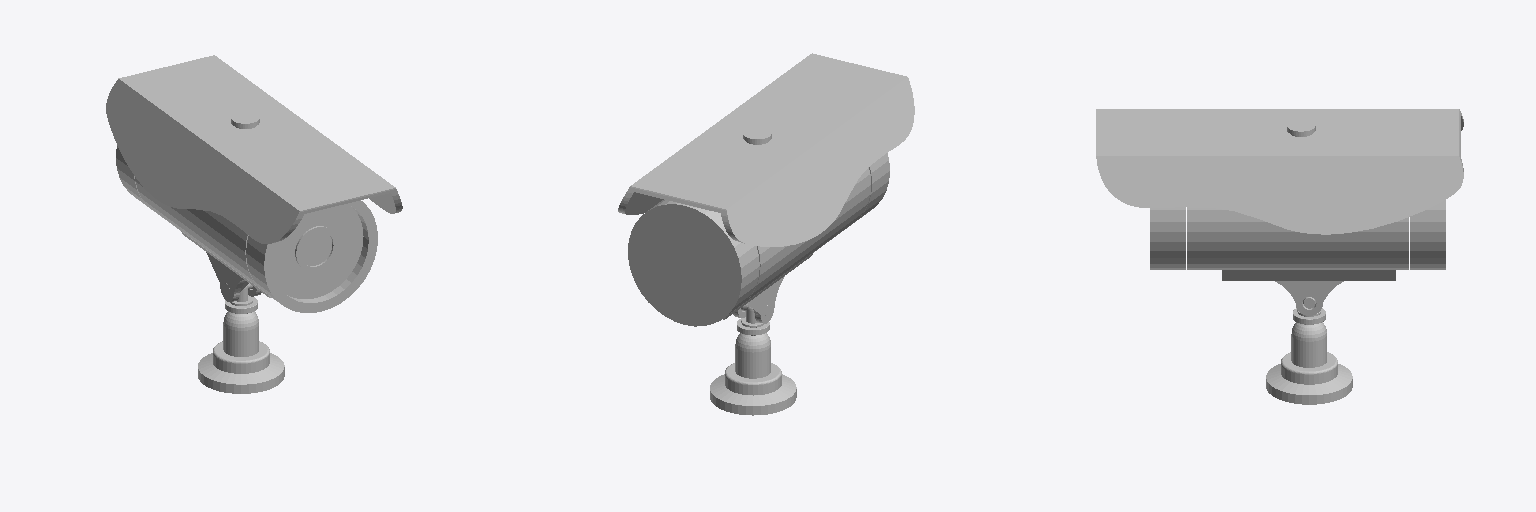
3 renders of one model, left to right at view 1: azimuth 30°, elevation 25°; view 2: azimuth 150°, elevation 25°; view 3: azimuth 270°, elevation 25°, orthographic.
Visible parts, largest first — view 1: 立方体.1, 圆柱, 机身, 圆柱_1, 圆柱.8, 胶囊.1, 圆柱.7, 挤压.2, 圆柱.2_2, 挤压_1, 圆柱.2_1, 机身后; view 2: 立方体.1, 机身后, 机身, 圆柱.8, 胶囊.1, 圆柱.7, 圆柱_1, 挤压_1, 挤压.2, 立方体; view 3: 立方体.1, 机身, 圆柱_1, 机身后, 圆柱.8, 挤压, 胶囊.1, 圆柱.7, 挤压.1.
Boxes of the visible parts, box(x1,y1,x2,y2) form: 立方体.1: box(106, 55, 395, 243); 圆柱: box(273, 204, 363, 298); 机身: box(135, 177, 263, 291); 圆柱_1: box(246, 200, 377, 312); 圆柱.8: box(198, 353, 284, 393); 胶囊.1: box(223, 311, 258, 356); 圆柱.7: box(213, 341, 269, 373); 挤压.2: box(206, 252, 248, 301); 圆柱.2_2: box(287, 206, 368, 302); 挤压_1: box(274, 188, 402, 242); 圆柱.2_1: box(295, 226, 337, 270); 机身后: box(116, 146, 151, 209); 立方体.1: box(631, 53, 914, 246); 机身后: box(628, 200, 759, 326); 机身: box(742, 167, 870, 304); 圆柱.8: box(710, 374, 796, 415); 胶囊.1: box(735, 333, 770, 378); 圆柱.7: box(725, 363, 781, 395); 圆柱_1: box(854, 153, 889, 222); 挤压_1: box(618, 186, 744, 243); 挤压.2: box(747, 276, 784, 323); 立方体: box(625, 192, 663, 214); 立方体.1: box(1096, 109, 1463, 234); 机身: box(1187, 207, 1408, 269); 圆柱_1: box(1150, 207, 1185, 269); 机身后: box(1410, 200, 1445, 269); 圆柱.8: box(1266, 364, 1352, 404); 挤压: box(1222, 270, 1395, 280); 胶囊.1: box(1291, 322, 1326, 367); 圆柱.7: box(1281, 352, 1337, 384); 挤压.1: box(1275, 281, 1343, 315).
Size of the model in its own units: 14.86 by 24.04 by 30.69.